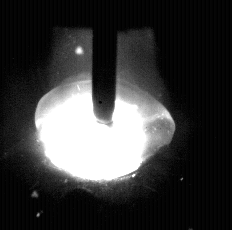arame: (93, 0, 117, 126)
poca: (35, 0, 176, 230)
